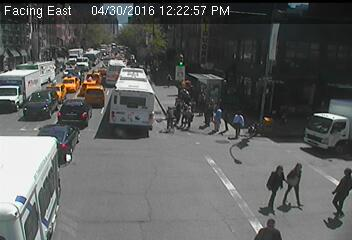neg: (18, 176, 46, 212), (132, 159, 157, 193), (221, 145, 244, 176), (195, 34, 217, 63), (227, 76, 246, 100), (315, 114, 332, 137), (64, 44, 81, 67), (6, 85, 22, 107), (260, 76, 275, 97), (133, 45, 147, 63), (125, 100, 138, 116), (261, 115, 273, 132), (55, 139, 65, 154), (45, 75, 55, 89), (208, 76, 218, 89)
pos: (275, 155, 316, 210), (321, 164, 351, 224), (259, 161, 295, 210), (226, 107, 248, 137), (209, 107, 231, 137), (177, 102, 198, 130), (261, 217, 278, 239), (163, 71, 175, 87)
